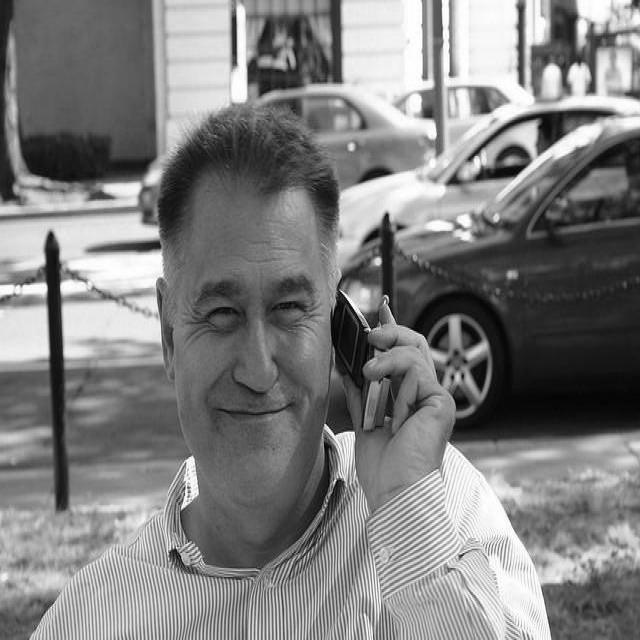vehicle: (339, 116, 640, 431), (335, 92, 640, 263), (255, 81, 435, 188), (395, 73, 532, 147)
